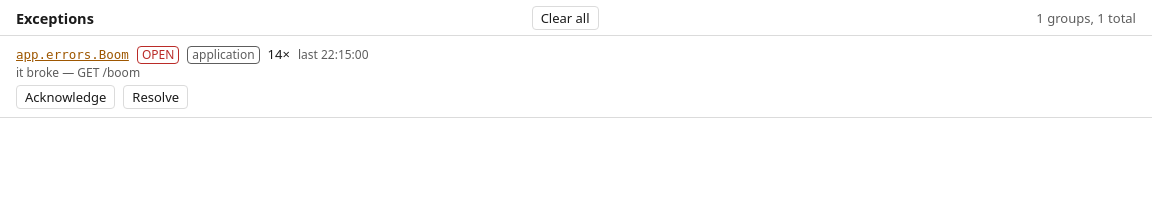
Scenario: a detail that cannot be loaded does not stay on Loading
Click the button "app.errors.Boom": [72, 55] box [16,45,129,65]
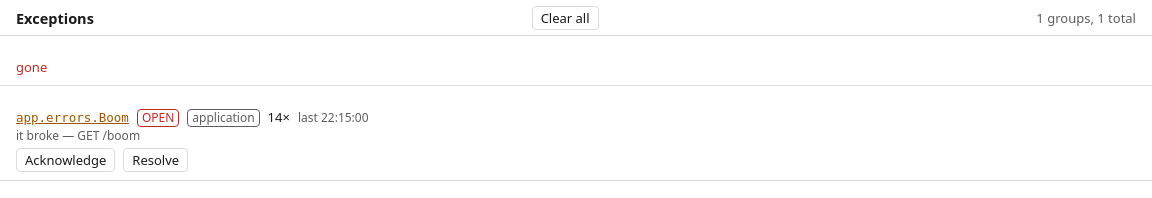
Check: the message "gone" is shown, box [0,49,1151,86]
